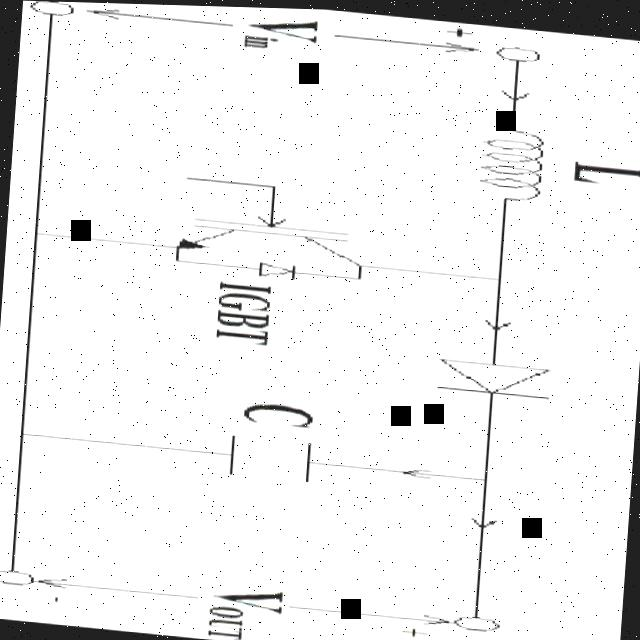capacitor: (189, 423, 348, 498)
diode: (419, 331, 551, 413), (237, 250, 314, 286)
inductor: (456, 107, 566, 220)
mosfet: (157, 171, 383, 275)
